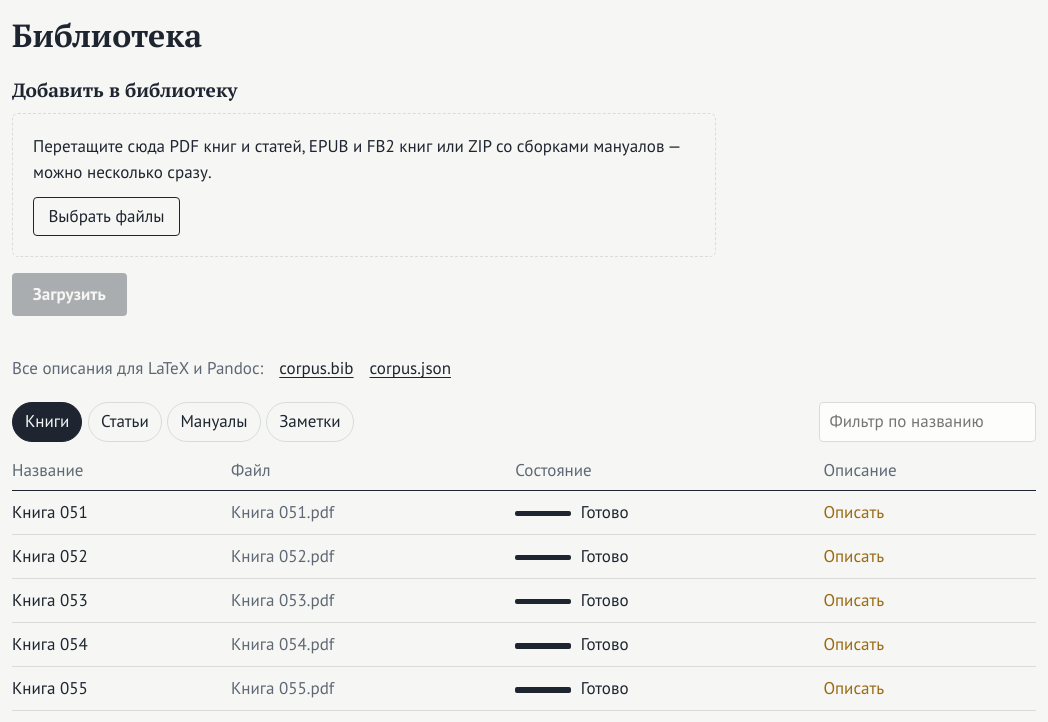
LibraryPage › pages › goes back to the first page when the filter changes
The width and height of the screenshot is (1048, 722).
Type "Книга 0" into the field labelled "Фильтр по названию" at coordinates (927, 422), box [819, 402, 1036, 442]
(page scrolled)
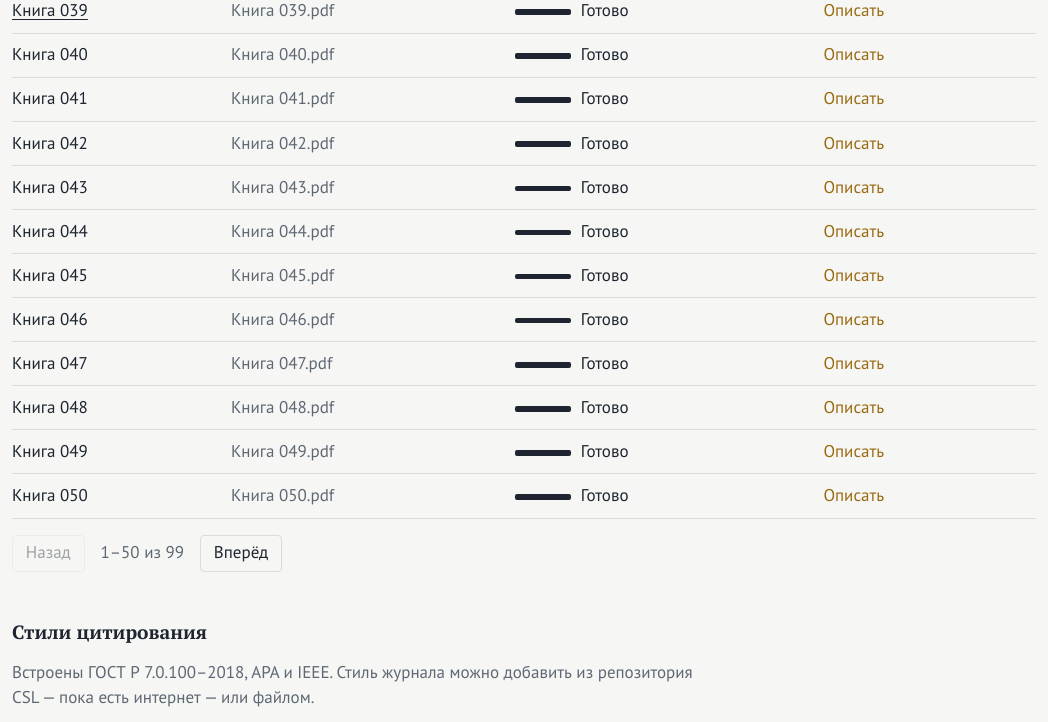
Now the navigation bar named "Страницы" shows "1–50 из 99", box [12, 535, 282, 572]
